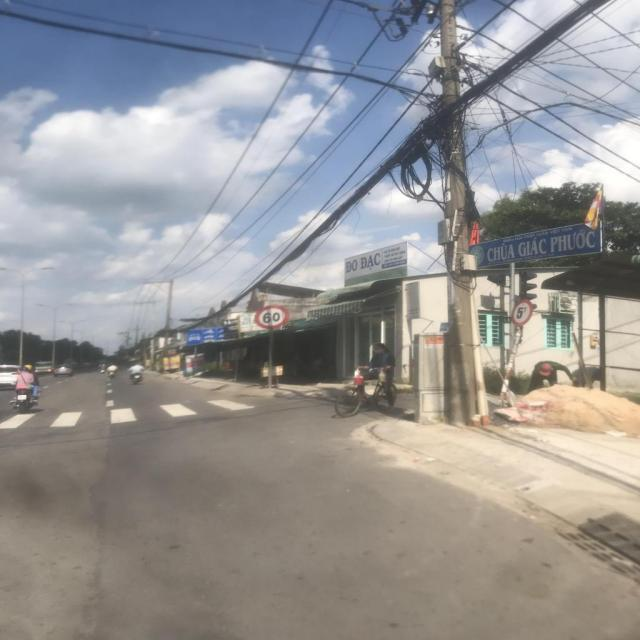127-toc-do-toi-da-60: (254, 304, 289, 329)
